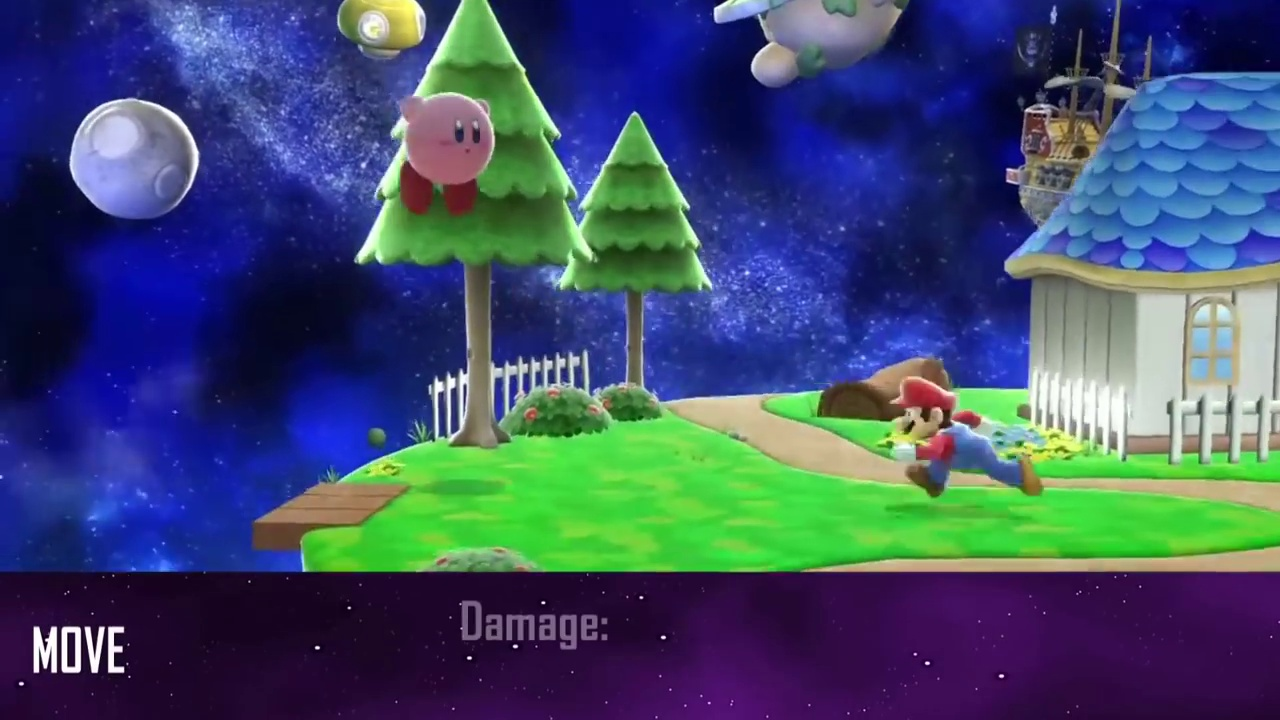Mario: (889, 375, 1043, 498)
